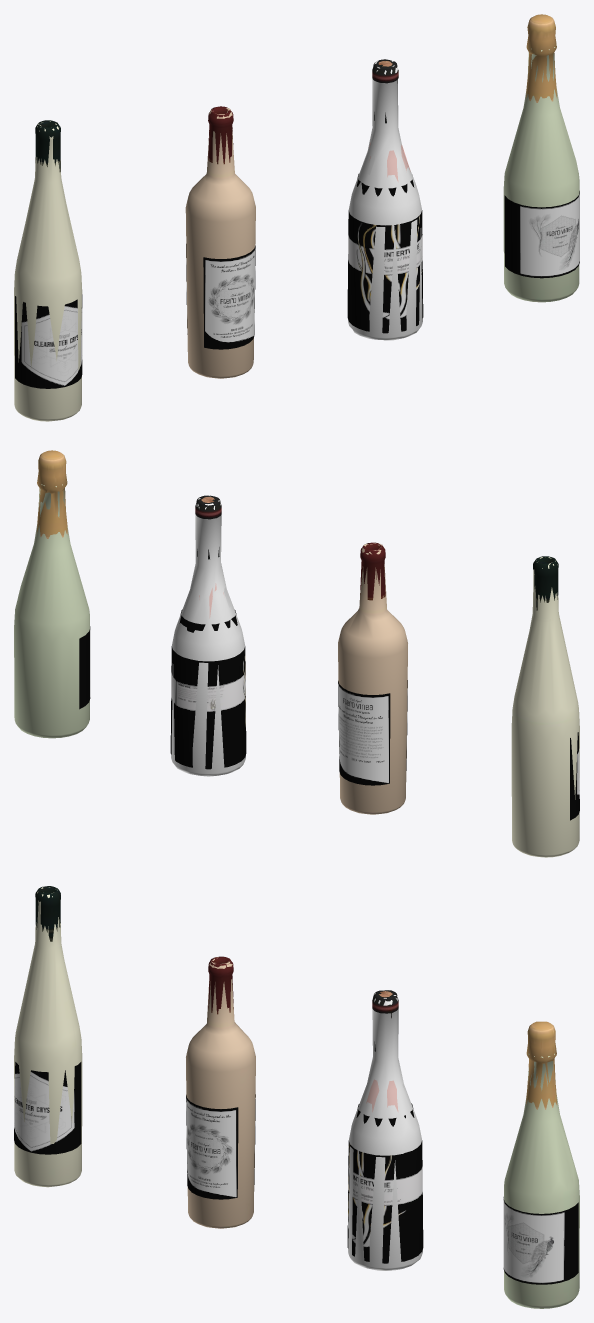
The model's file is wine_bottles_01.glb.
The picture shows the model from 3 angles, top to bottom: view 1: azimuth 30°, elevation 25°; view 2: azimuth 150°, elevation 25°; view 3: azimuth 330°, elevation 25°; orthographic projection.
Parts seen in each view (by area): view 1: wine_bottles_01_champagne, wine_bottles_01_alsace, wine_bottles_01_burgundy, wine_bottles_01_bordeaux; view 2: wine_bottles_01_champagne, wine_bottles_01_alsace, wine_bottles_01_burgundy, wine_bottles_01_bordeaux; view 3: wine_bottles_01_champagne, wine_bottles_01_alsace, wine_bottles_01_burgundy, wine_bottles_01_bordeaux.
Part boxes in pixels (x1,y1,x2,y2): wine_bottles_01_champagne: (503, 14, 579, 302); wine_bottles_01_alsace: (14, 120, 82, 421); wine_bottles_01_burgundy: (347, 59, 423, 340); wine_bottles_01_bordeaux: (185, 106, 255, 378); wine_bottles_01_champagne: (14, 450, 90, 738); wine_bottles_01_alsace: (511, 556, 579, 857); wine_bottles_01_burgundy: (170, 495, 246, 776); wine_bottles_01_bordeaux: (338, 542, 407, 814); wine_bottles_01_champagne: (503, 1021, 579, 1308); wine_bottles_01_alsace: (14, 886, 82, 1187); wine_bottles_01_burgundy: (347, 990, 423, 1270); wine_bottles_01_bordeaux: (186, 956, 255, 1228).
Bounding box in the file's own units: 0.6763 × 0.3314 × 0.0805.
9 materials, 6 textured.
